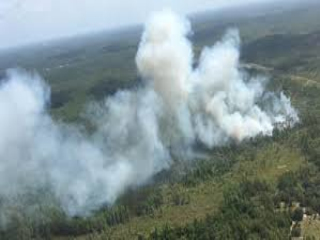smoke: (195, 47, 300, 145), (136, 10, 196, 158)
